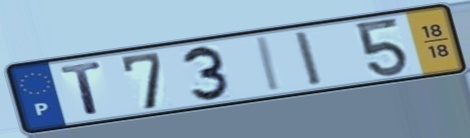3: (180, 43, 231, 104)
5: (351, 16, 411, 79)
7: (118, 51, 164, 111)
I: (291, 28, 327, 89), (255, 34, 285, 94)
T: (57, 59, 106, 118)
